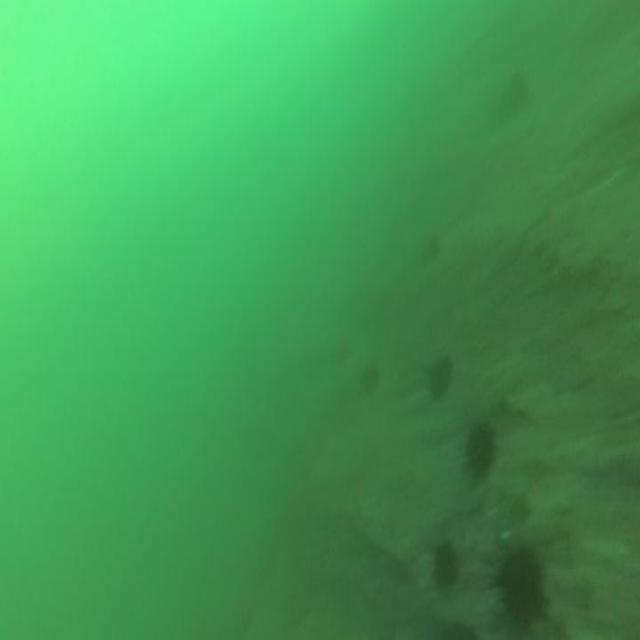echinus: (487, 531, 551, 640), (462, 416, 500, 478), (420, 348, 457, 408), (432, 532, 464, 598)
